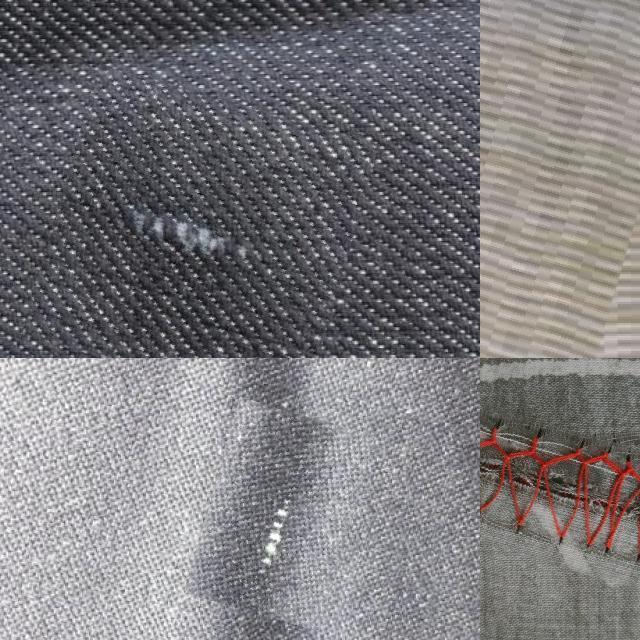Thread_out: (480, 389, 640, 609)
stains: (39, 80, 363, 358), (480, 0, 640, 358), (197, 403, 363, 623)
